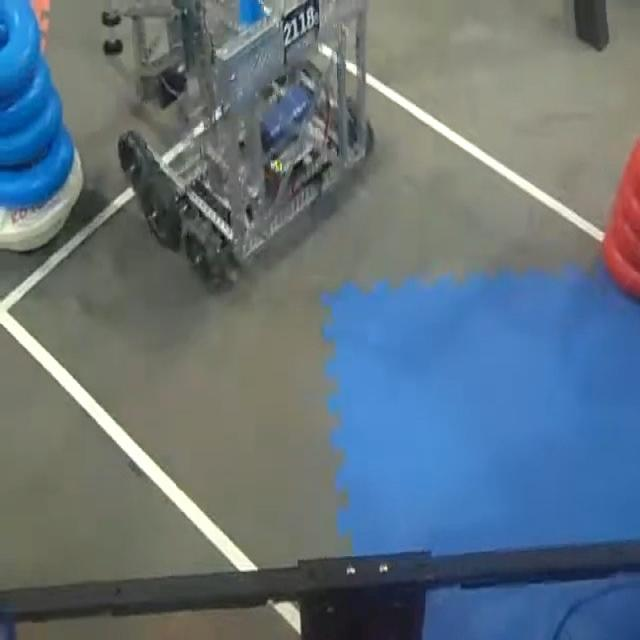Blue-Ring: (0, 127, 74, 208), (0, 93, 62, 166), (0, 0, 40, 106), (0, 60, 55, 134)
Red-Ring: (599, 232, 640, 300), (612, 194, 640, 268), (616, 175, 640, 236), (629, 130, 640, 198)
